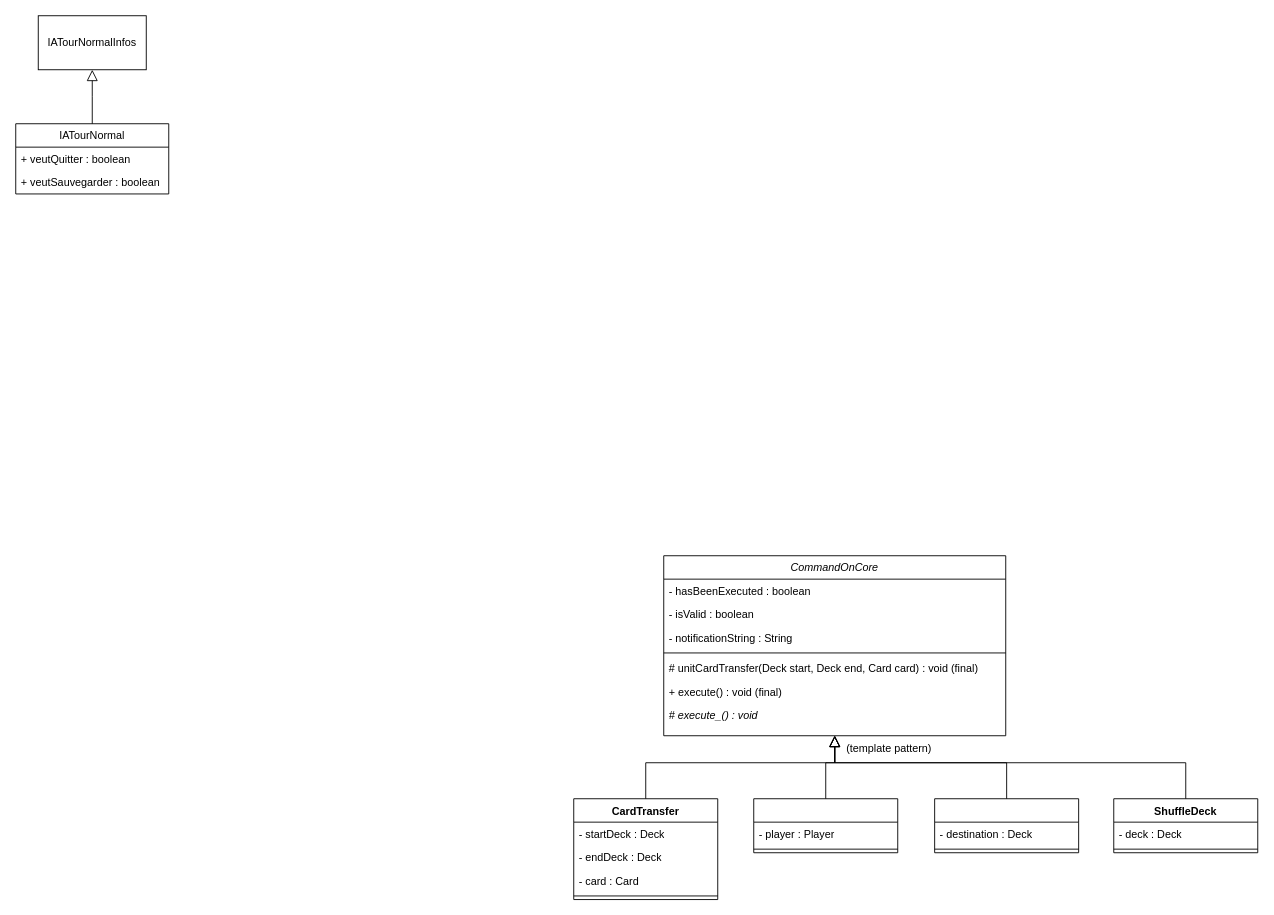
Some shapes in this 1274 by 915 pixel diagram are drawn without their labels. Each missing label, with the box of its shape:
DefausserOeuvres: (753, 798, 898, 853)
PuiserSource: (934, 798, 1079, 853)
